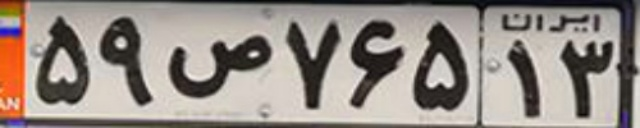1: (505, 39, 544, 117)
3: (556, 37, 612, 118)
5: (409, 19, 469, 109), (34, 16, 90, 102)
6: (346, 17, 401, 109)
7: (283, 16, 340, 109)
9: (99, 15, 155, 104)
saat: (166, 29, 274, 100)
